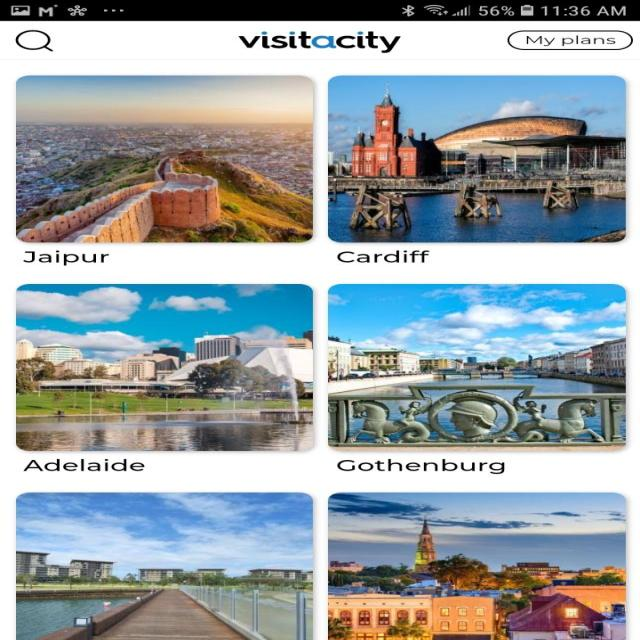Icon: (15, 30, 53, 52)
Image: (327, 75, 626, 243), (327, 283, 625, 451), (16, 283, 313, 451), (16, 76, 313, 242), (327, 492, 625, 640), (16, 492, 312, 640), (238, 31, 401, 53)
Text: (336, 458, 504, 474), (23, 458, 145, 471), (23, 250, 109, 265), (336, 250, 429, 262)
TextButton: (506, 30, 633, 50)
